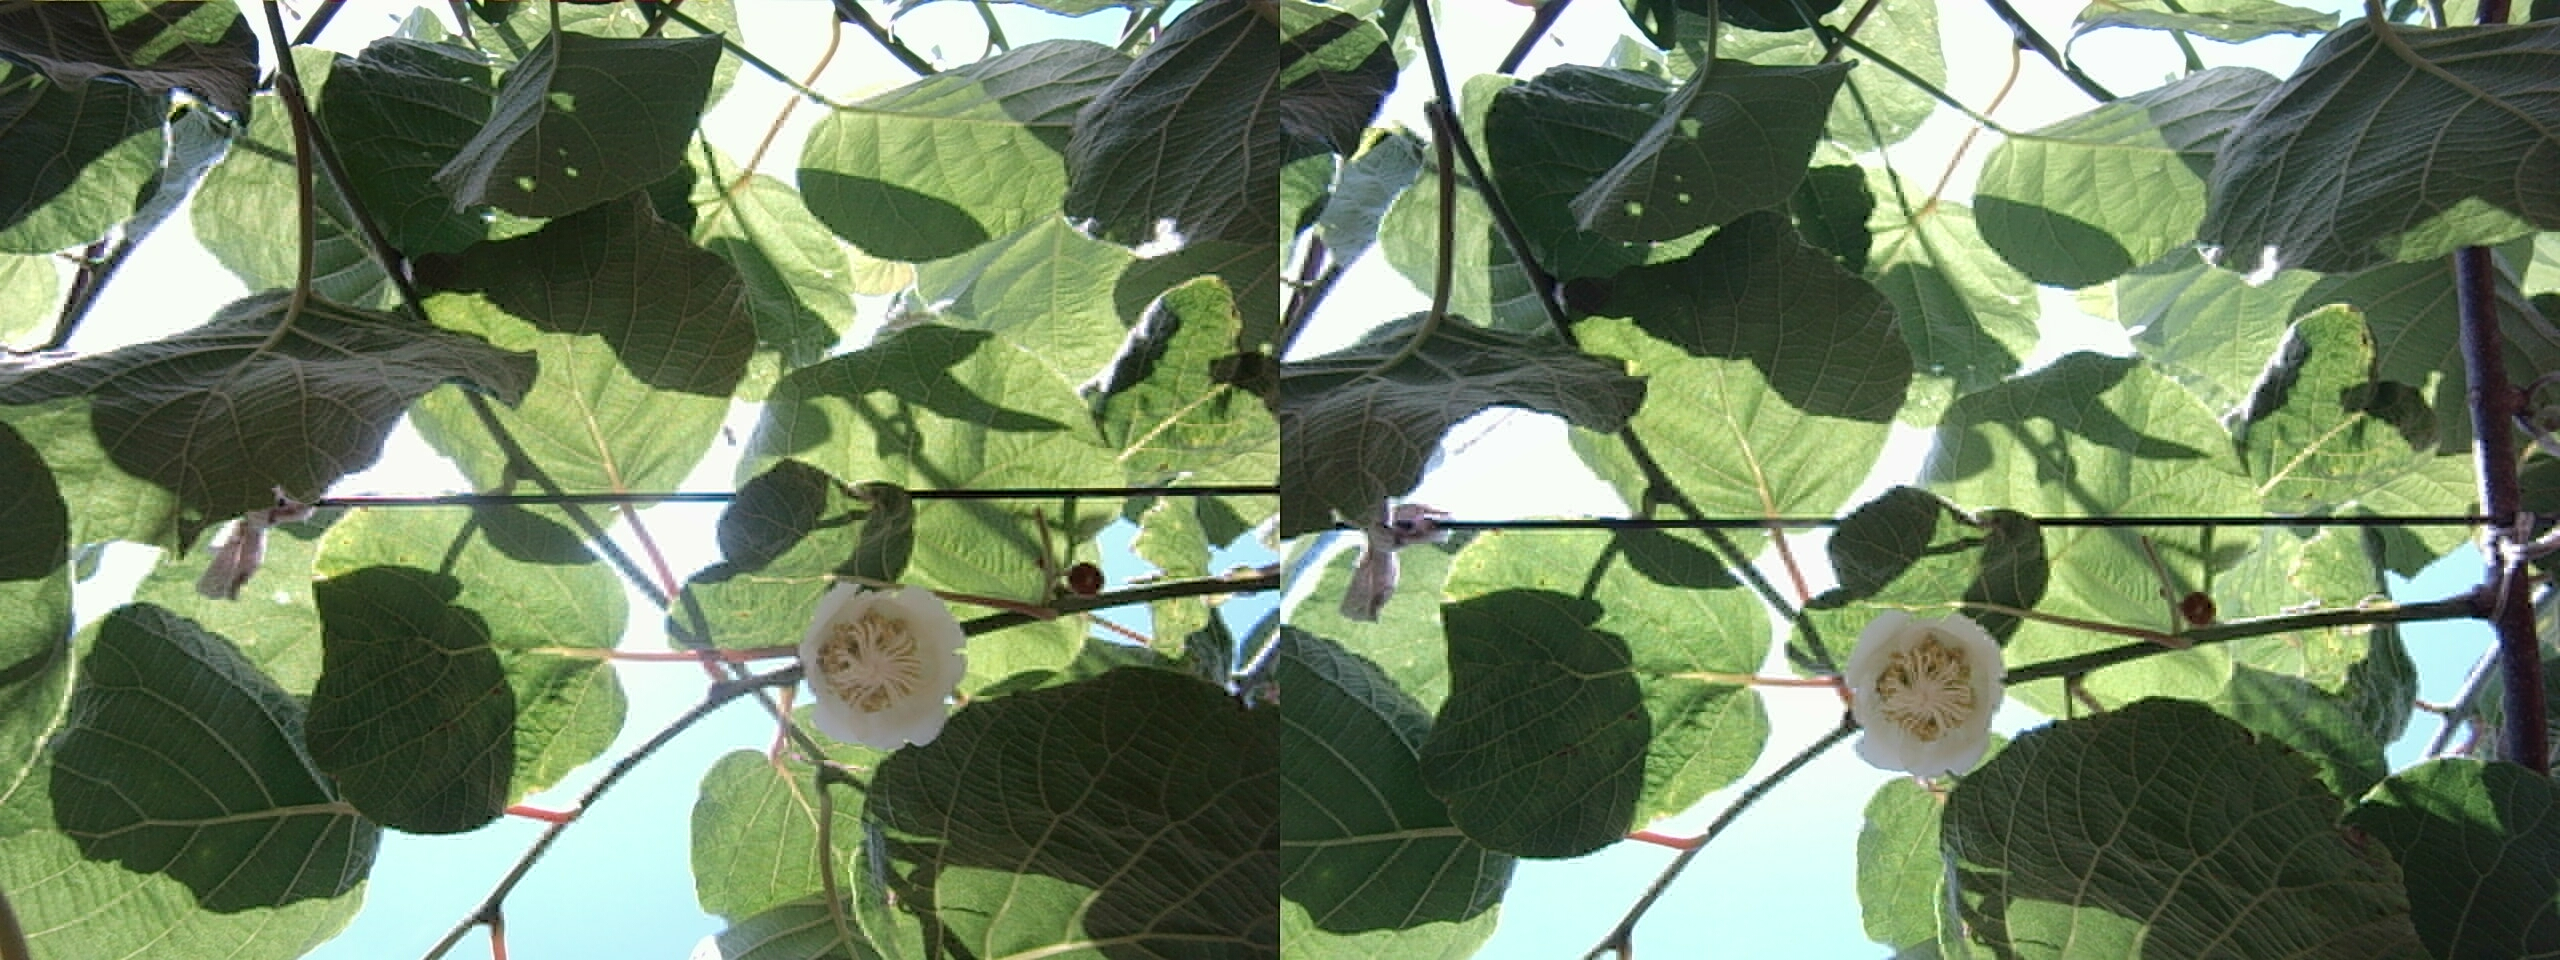flower: (1837, 602, 2011, 780), (793, 580, 970, 749)
